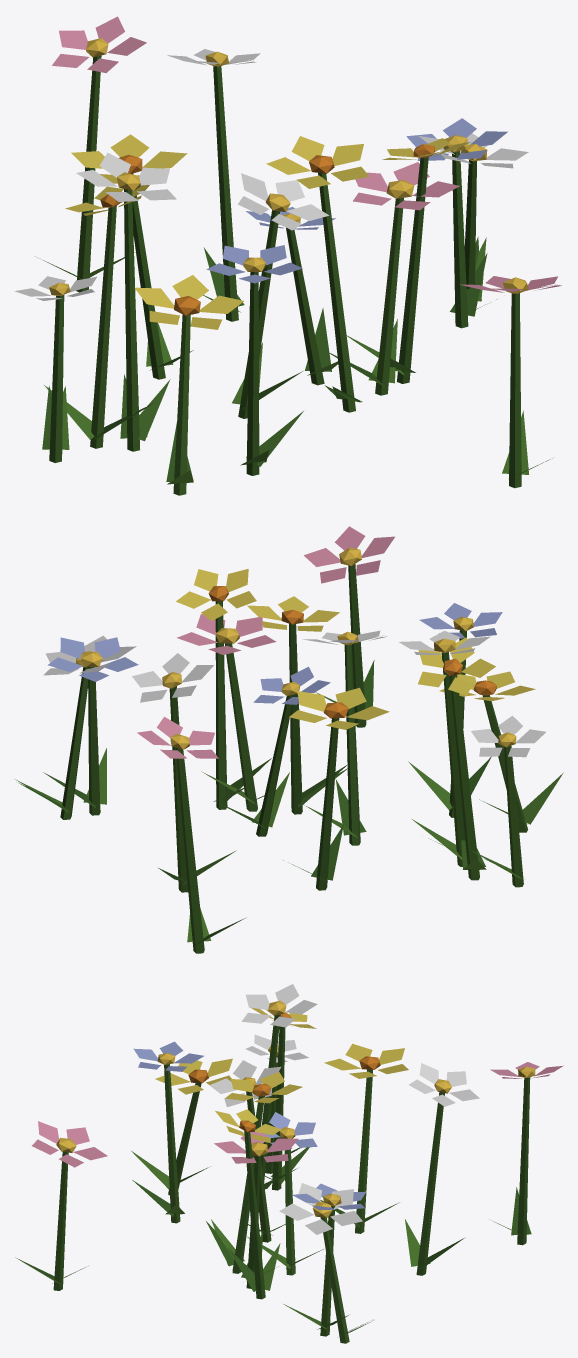
The model's file is flowers_meadow.glb.
3 renders of one model, top to bottom at view 1: azimuth 30°, elevation 25°; view 2: azimuth 150°, elevation 25°; view 3: azimuth 270°, elevation 25°, orthographic. The views are drawn at different scales.
Parts seen in each view (by area): view 1: flowers_meadow; view 2: flowers_meadow; view 3: flowers_meadow.
Boxes of the visible parts, box(x1,y1,x2,y2) form: flowers_meadow: box(14, 16, 561, 495); flowers_meadow: box(15, 526, 563, 953); flowers_meadow: box(15, 984, 563, 1343).
Size of the model in its own units: 0.9935 by 0.483 by 1.19.
